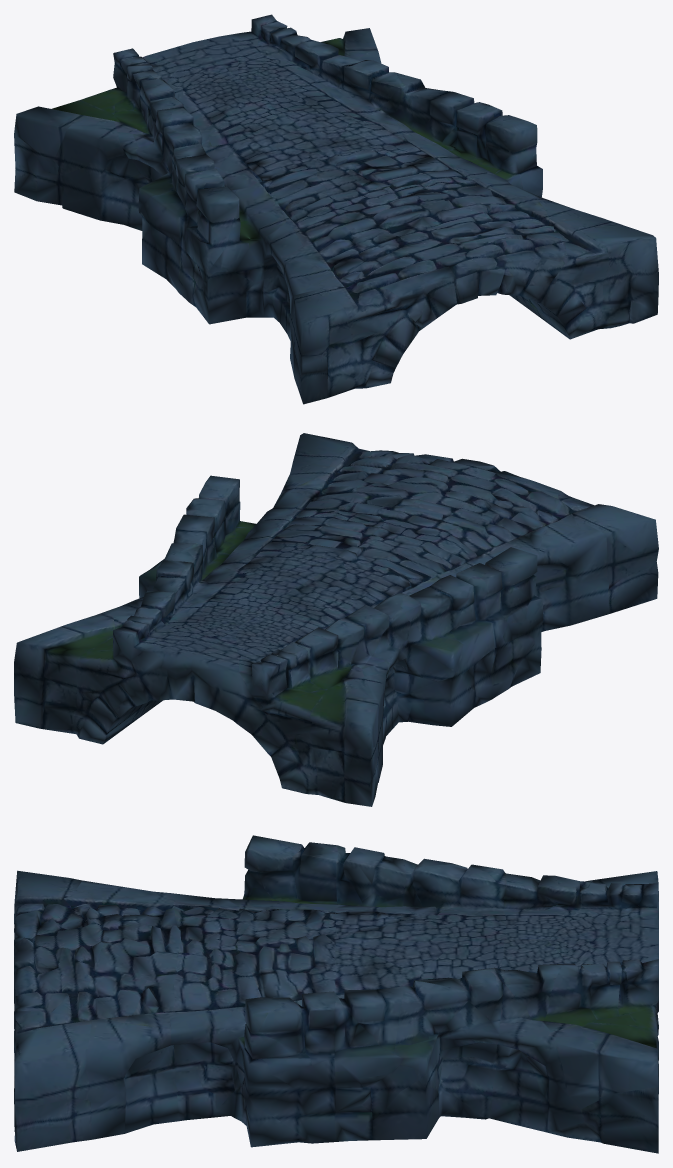
The model's file is causeway-segment.glb.
The picture shows the model from 3 angles, top to bottom: view 1: azimuth 30°, elevation 25°; view 2: azimuth 150°, elevation 25°; view 3: azimuth 270°, elevation 25°; orthographic projection. The views are drawn at different scales.
Size of the model in its own units: 1.36 by 0.4335 by 1.9.
1 material, 1 textured.
